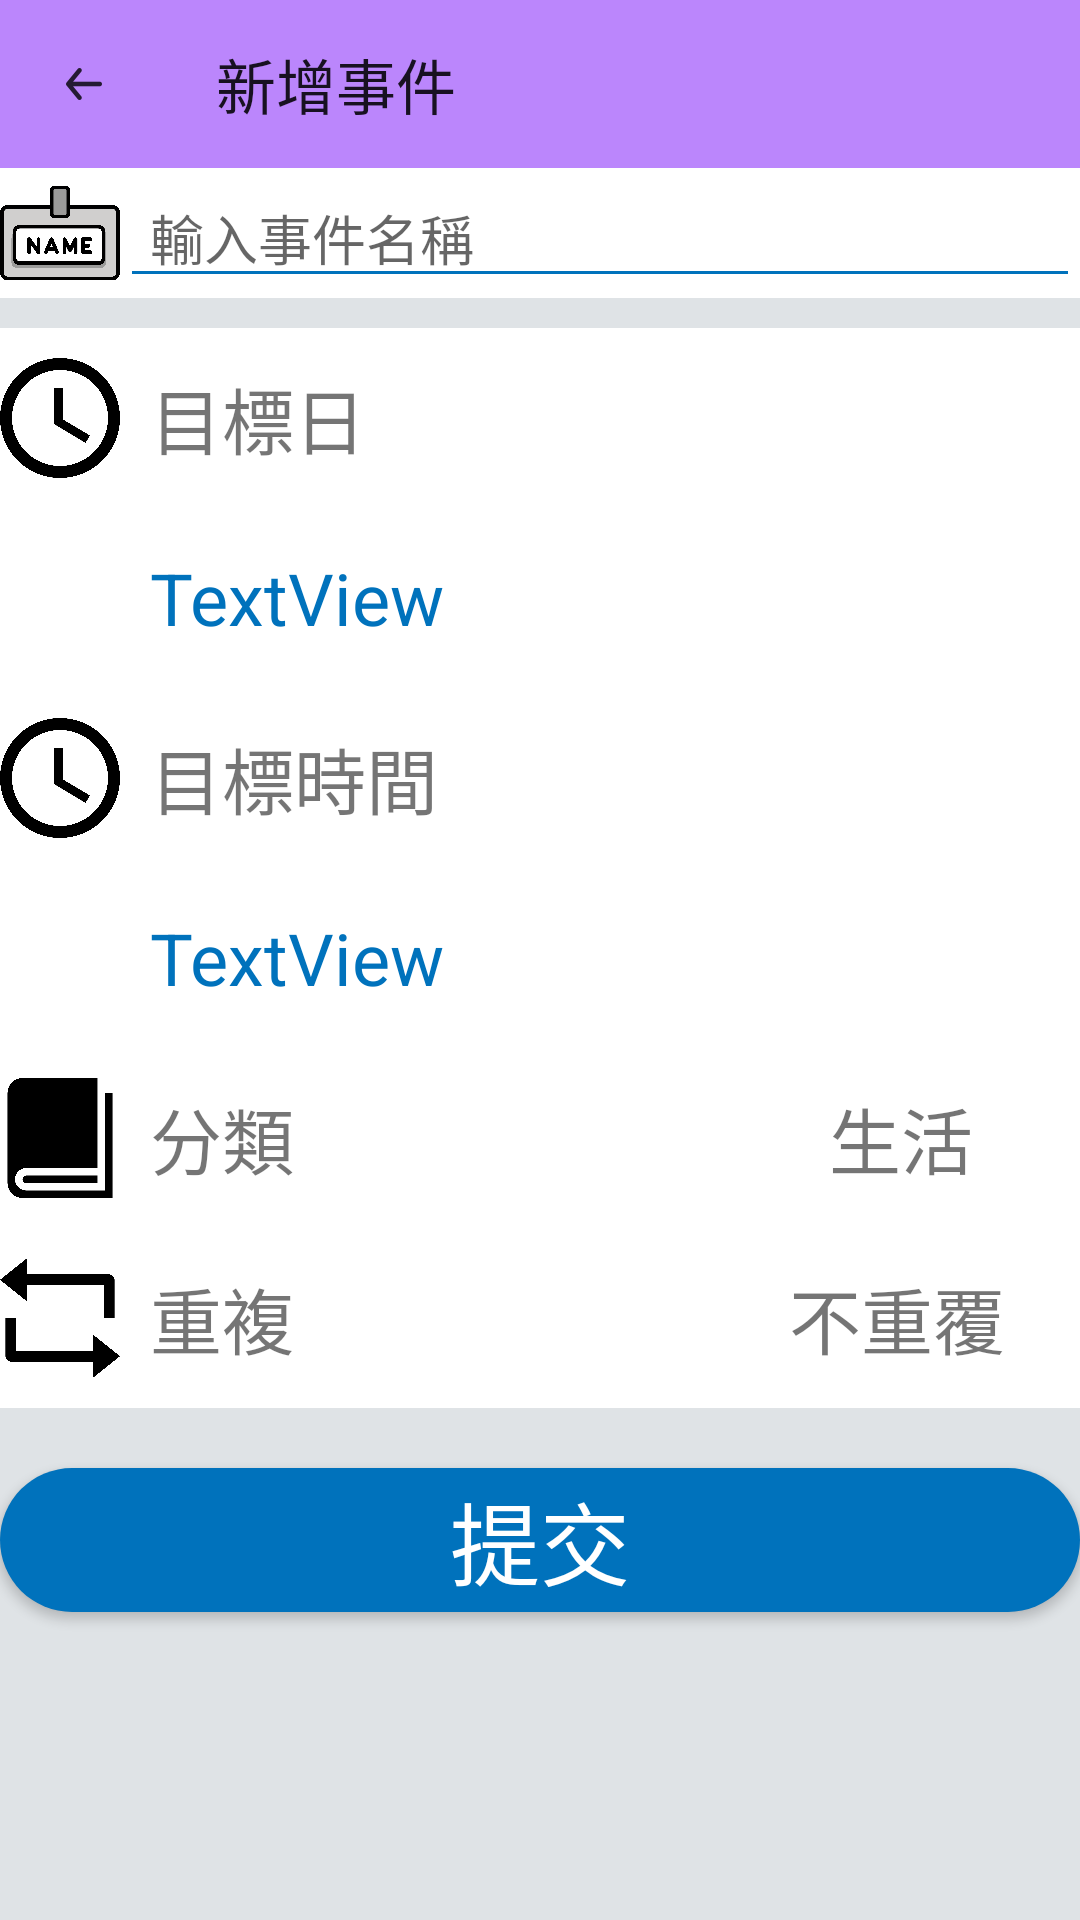

Screen size 1080*1920. Icon name, then its center in pixels as [x,y]:
clock: [60,418], [60,778]
repeat: [60,1318]
